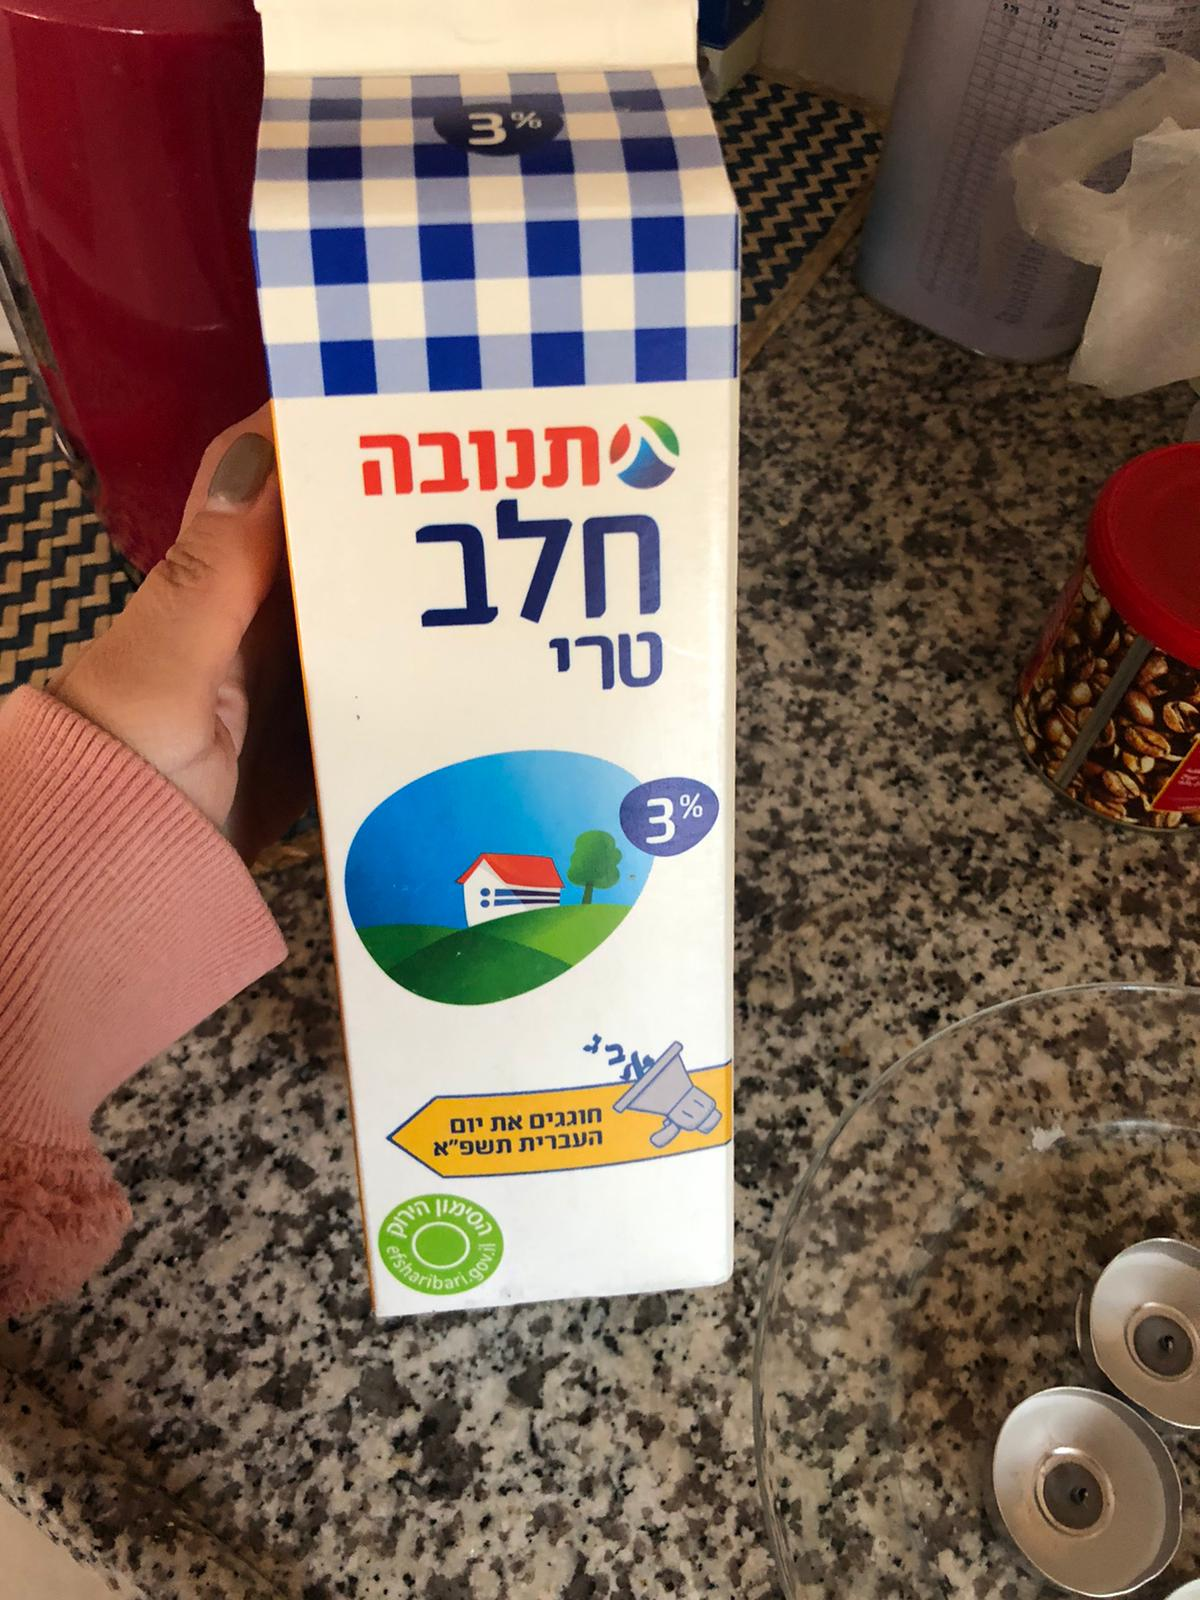green: (377, 1191, 505, 1298)
